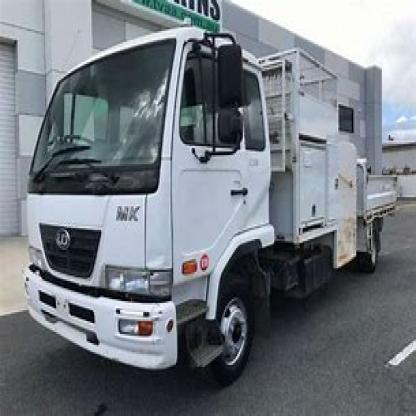dump_truck: (27, 26, 405, 394)
